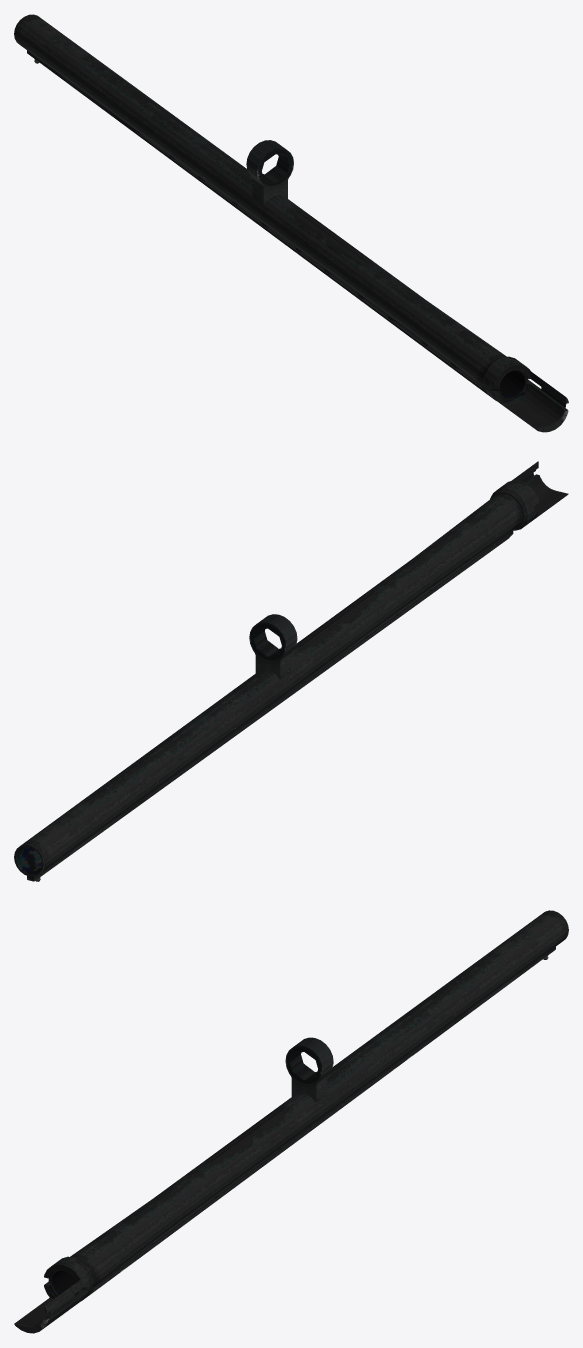
3 renders of one model, top to bottom at view 1: azimuth 30°, elevation 25°; view 2: azimuth 150°, elevation 25°; view 3: azimuth 330°, elevation 25°, orthographic.
Parts seen in each view (by area): view 1: TW_55d449444bdc2d962f8b456d_PZ_Import; view 2: TW_55d449444bdc2d962f8b456d_PZ_Import; view 3: TW_55d449444bdc2d962f8b456d_PZ_Import.
Part boxes in pixels (x1,y1,x2,y2): TW_55d449444bdc2d962f8b456d_PZ_Import: (14, 14, 568, 432); TW_55d449444bdc2d962f8b456d_PZ_Import: (14, 461, 568, 881); TW_55d449444bdc2d962f8b456d_PZ_Import: (14, 910, 568, 1333).
Size of the model in its own units: 0.0167 by 0.3791 by 0.0359.
Materials: 1 (1 with a texture image).
